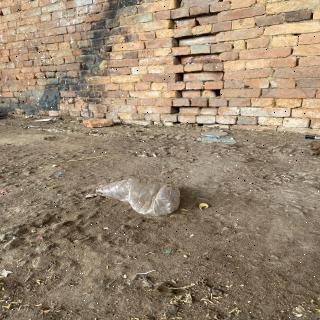Plastic-bottle: (95, 177, 184, 221)
